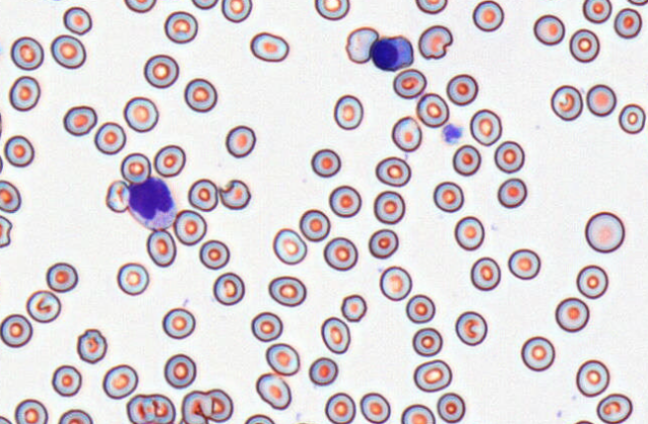GRAN: (126, 175, 180, 231)
LYM: (373, 34, 416, 72)
PLT: (442, 123, 466, 145)
RBC: (180, 388, 233, 423), (584, 211, 625, 253), (126, 393, 175, 423), (255, 372, 291, 410), (272, 227, 307, 265), (102, 363, 138, 399), (575, 359, 609, 397), (413, 359, 452, 392), (123, 96, 158, 132), (520, 335, 555, 371), (50, 34, 86, 69), (469, 108, 502, 146), (249, 31, 289, 62), (554, 297, 589, 332), (25, 289, 61, 323), (143, 54, 179, 88), (550, 84, 583, 121), (183, 77, 217, 112), (265, 342, 300, 376), (323, 236, 358, 270), (173, 209, 206, 245), (379, 265, 412, 301), (454, 310, 487, 346), (268, 275, 306, 306), (10, 36, 44, 70), (163, 353, 196, 388), (0, 313, 33, 348), (416, 92, 449, 127), (8, 75, 40, 111), (391, 115, 422, 152), (146, 229, 176, 267), (320, 316, 350, 354), (576, 264, 608, 299), (375, 156, 411, 187), (116, 262, 149, 295), (164, 10, 197, 43), (328, 184, 361, 217), (161, 307, 195, 339), (212, 271, 244, 305), (373, 190, 405, 224), (62, 105, 97, 136), (76, 328, 107, 363), (596, 393, 632, 423), (333, 94, 363, 130), (94, 121, 126, 154), (153, 144, 185, 177), (507, 248, 540, 280), (569, 28, 600, 62), (454, 215, 484, 250), (472, 0, 504, 32), (446, 73, 478, 105), (51, 364, 82, 397), (250, 311, 283, 342), (3, 134, 34, 167), (187, 178, 218, 211), (299, 208, 330, 241), (45, 261, 78, 292), (470, 256, 500, 290), (392, 68, 426, 98), (225, 124, 255, 158), (120, 152, 151, 184), (324, 392, 356, 423), (533, 14, 565, 45), (586, 83, 616, 116), (494, 140, 524, 173), (359, 392, 390, 423), (198, 239, 229, 269), (497, 177, 527, 208), (433, 181, 463, 212), (452, 144, 481, 176), (368, 228, 398, 258), (405, 293, 435, 323), (310, 148, 341, 177), (436, 392, 465, 423), (613, 7, 642, 38), (308, 356, 338, 385), (412, 327, 442, 356), (62, 6, 92, 35), (105, 179, 130, 213), (14, 398, 48, 423), (618, 103, 645, 134), (0, 179, 21, 213), (400, 403, 435, 423), (314, 0, 349, 20), (582, 0, 612, 23), (221, 0, 252, 22), (57, 408, 93, 423), (415, 0, 447, 14), (123, 0, 156, 13), (243, 413, 275, 423), (191, 0, 218, 9), (626, 0, 647, 6), (570, 419, 595, 424), (290, 420, 320, 424), (0, 33, 4, 61), (644, 67, 648, 93), (0, 415, 12, 423), (0, 149, 3, 175), (0, 109, 2, 139), (0, 276, 2, 305), (536, 0, 564, 1)
Schistocyte: (345, 25, 380, 64), (418, 24, 454, 61), (219, 179, 252, 211), (340, 293, 368, 323), (0, 214, 13, 251)
